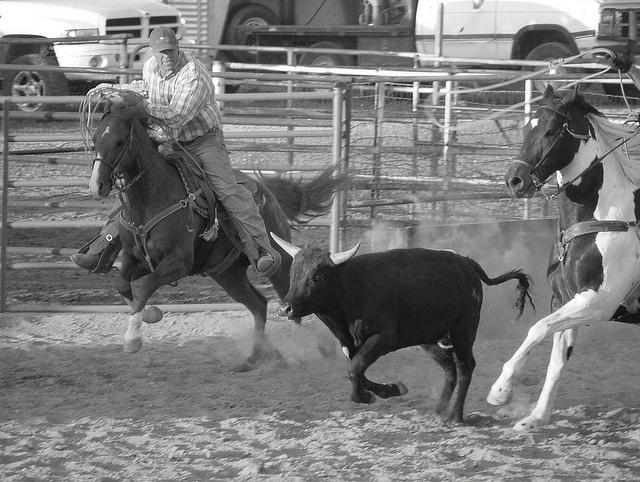car: (0, 0, 187, 120)
truck: (414, 1, 640, 102), (1, 0, 186, 122), (152, 1, 419, 77)
